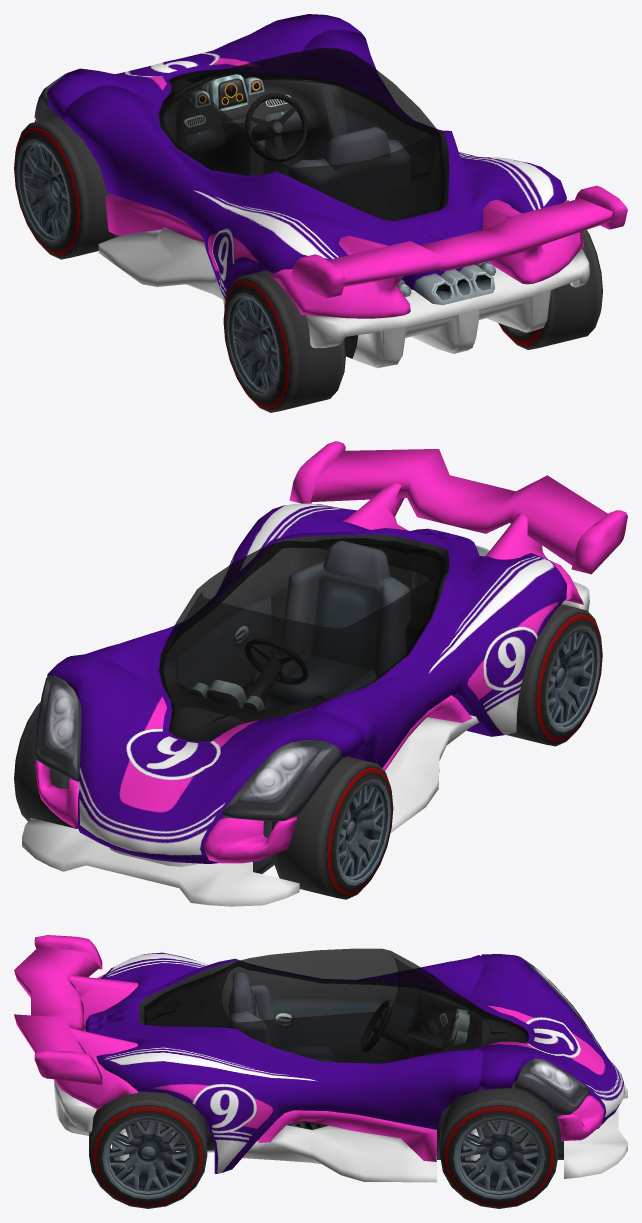
Rendered from bbr_2_-_celero_gt.glb.
The picture shows the model from 3 angles, top to bottom: view 1: azimuth 30°, elevation 25°; view 2: azimuth 150°, elevation 25°; view 3: azimuth 270°, elevation 25°; orthographic projection. The views are drawn at different scales.
Parts seen in each view (by area): view 1: Car/Vehicles/HWCelero/HWCelero_HW9_LOD0_Car_Vehicles_HWCeler, Car/Vehicles/HWCelero/HWCelero_Car_Vehicles_HWCelero_HWCeler, Car/Window/Window, Car/Wheel/Rubber/HW.001, glass, Car/Wheel/Rubber/HW, Car/Wheel/Hub/HWCelero_Steel_Car_Wheel_Hub_HWCelero_Steel.00, Car/Wheel/Hub/HWCelero_Steel.001_Car_Wheel_Hub_HWCelero_Stee, Car/Wheel/Rubber/HW.002; view 2: Car/Vehicles/HWCelero/HWCelero_HW9_LOD0_Car_Vehicles_HWCeler, Car/Vehicles/HWCelero/HWCelero_Car_Vehicles_HWCelero_HWCeler, Car/Window/Window, Car/Wheel/Rubber/HW, Car/Wheel/Rubber/HW.001, Car/Wheel/Hub/HWCelero_Steel.001_Car_Wheel_Hub_HWCelero_Stee, Car/Wheel/Hub/HWCelero_Steel_Car_Wheel_Hub_HWCelero_Steel.00, glass, Car/Wheel/Rubber/HW.003; view 3: Car/Vehicles/HWCelero/HWCelero_HW9_LOD0_Car_Vehicles_HWCeler, Car/Vehicles/HWCelero/HWCelero_Car_Vehicles_HWCelero_HWCeler, Car/Window/Window, Car/Wheel/Rubber/HW.003, glass, Car/Wheel/Rubber/HW.002, Car/Wheel/Hub/HWCelero_Steel.003_Car_Wheel_Hub_HWCelero_Stee, Car/Wheel/Hub/HWCelero_Steel.002_Car_Wheel_Hub_HWCelero_Stee.
Boxes of the visible parts, <box> form: Car/Vehicles/HWCelero/HWCelero_HW9_LOD0_Car_Vehicles_HWCeler: <box>34,14,627,368</box>; Car/Vehicles/HWCelero/HWCelero_Car_Vehicles_HWCelero_HWCeler: <box>34,69,495,358</box>; Car/Window/Window: <box>159,48,444,220</box>; Car/Wheel/Rubber/HW.001: <box>223,270,345,412</box>; glass: <box>170,48,435,164</box>; Car/Wheel/Rubber/HW: <box>14,116,120,259</box>; Car/Wheel/Hub/HWCelero_Steel_Car_Wheel_Hub_HWCelero_Steel.00: <box>16,139,70,245</box>; Car/Wheel/Hub/HWCelero_Steel.001_Car_Wheel_Hub_HWCelero_Stee: <box>226,292,280,398</box>; Car/Wheel/Rubber/HW.002: <box>498,230,602,349</box>; Car/Vehicles/HWCelero/HWCelero_HW9_LOD0_Car_Vehicles_HWCeler: <box>22,441,627,906</box>; Car/Vehicles/HWCelero/HWCelero_Car_Vehicles_HWCelero_HWCeler: <box>35,534,489,873</box>; Car/Window/Window: <box>159,538,444,741</box>; Car/Wheel/Rubber/HW: <box>271,756,393,899</box>; Car/Wheel/Rubber/HW.001: <box>507,604,602,746</box>; Car/Wheel/Hub/HWCelero_Steel.001_Car_Wheel_Hub_HWCelero_Stee: <box>545,626,600,732</box>; Car/Wheel/Hub/HWCelero_Steel_Car_Wheel_Hub_HWCelero_Steel.00: <box>336,779,390,885</box>; glass: <box>167,541,440,652</box>; Car/Wheel/Rubber/HW.003: <box>14,702,81,828</box>; Car/Vehicles/HWCelero/HWCelero_HW9_LOD0_Car_Vehicles_HWCeler: <box>14,935,627,1182</box>; Car/Vehicles/HWCelero/HWCelero_Car_Vehicles_HWCelero_HWCeler: <box>84,956,589,1159</box>; Car/Window/Window: <box>144,949,528,1063</box>; Car/Wheel/Rubber/HW.003: <box>440,1083,558,1208</box>; glass: <box>146,948,491,1024</box>; Car/Wheel/Rubber/HW.002: <box>89,1091,207,1208</box>; Car/Wheel/Hub/HWCelero_Steel.003_Car_Wheel_Hub_HWCelero_Stee: <box>453,1116,544,1199</box>; Car/Wheel/Hub/HWCelero_Steel.002_Car_Wheel_Hub_HWCelero_Stee: <box>102,1116,193,1199</box>.
Bounding box in the file's own units: 2.11 × 1.27 × 4.18.
Materials: 21 (19 with a texture image).
